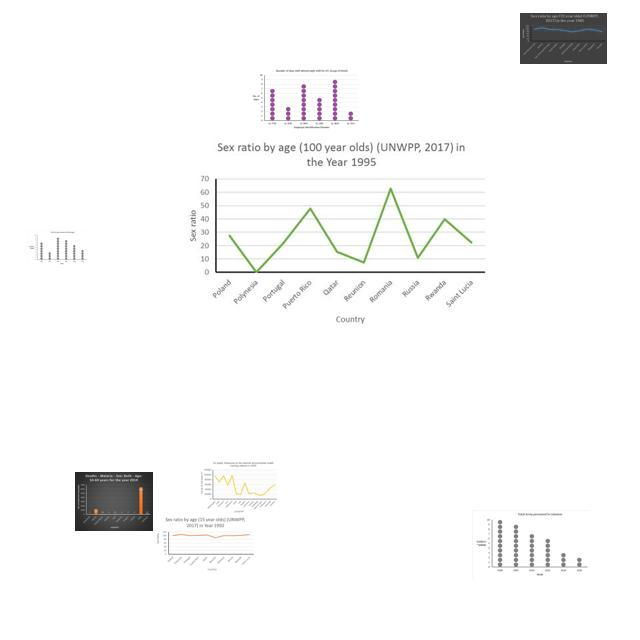Graph: (182, 134, 489, 329), (472, 510, 590, 579), (249, 68, 361, 131), (156, 515, 256, 571), (75, 472, 153, 531), (520, 13, 607, 64), (199, 461, 278, 514), (27, 230, 88, 266)
